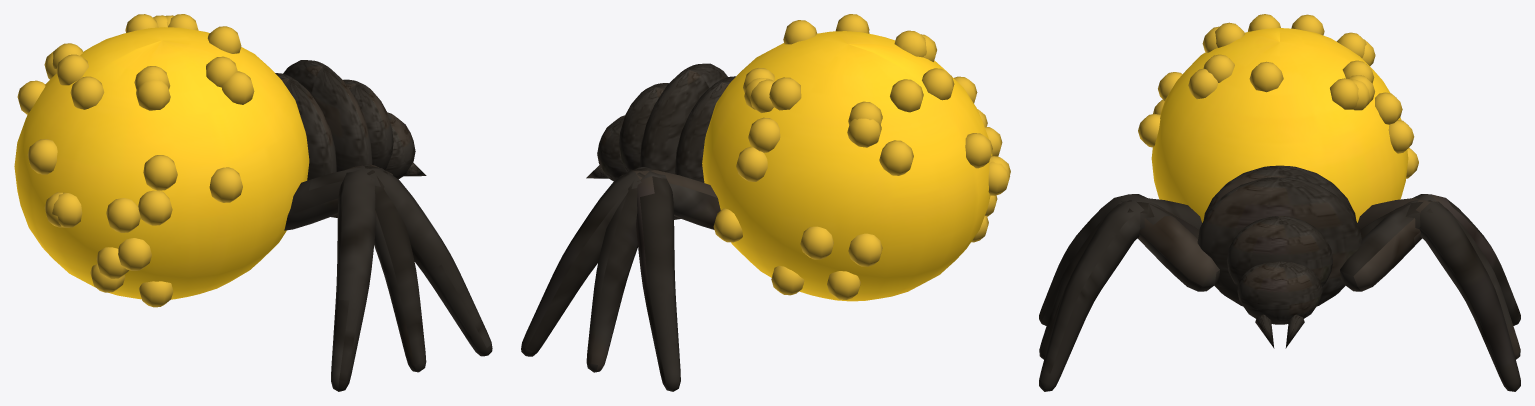
Rendered from bug_brood.glb.
The picture shows the model from 3 angles, left to right: view 1: azimuth 30°, elevation 25°; view 2: azimuth 150°, elevation 25°; view 3: azimuth 270°, elevation 25°; orthographic projection. The views are drawn at different scales.
Visible parts, largest first — view 1: bug_brood; view 2: bug_brood; view 3: bug_brood.
Part boxes in pixels (x1,y1,x2,y2): bug_brood: (14, 14, 492, 391); bug_brood: (521, 14, 1010, 391); bug_brood: (1039, 14, 1520, 391).
Bounding box in the file's own units: 1.63 × 1.08 × 1.8.
3 materials, 2 textured.
